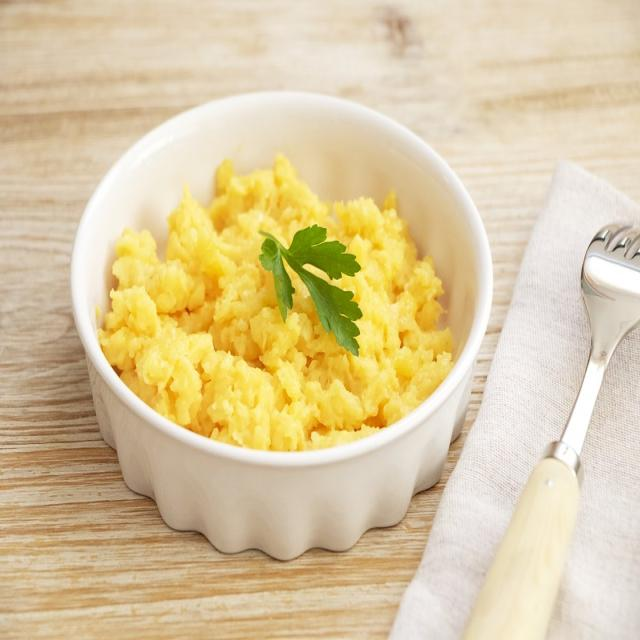huevos: (101, 143, 463, 454)
